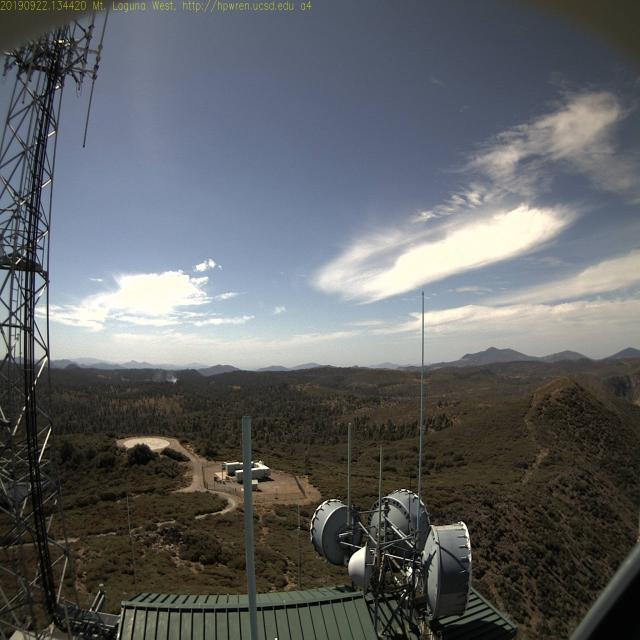smoke: (144, 360, 182, 382)
